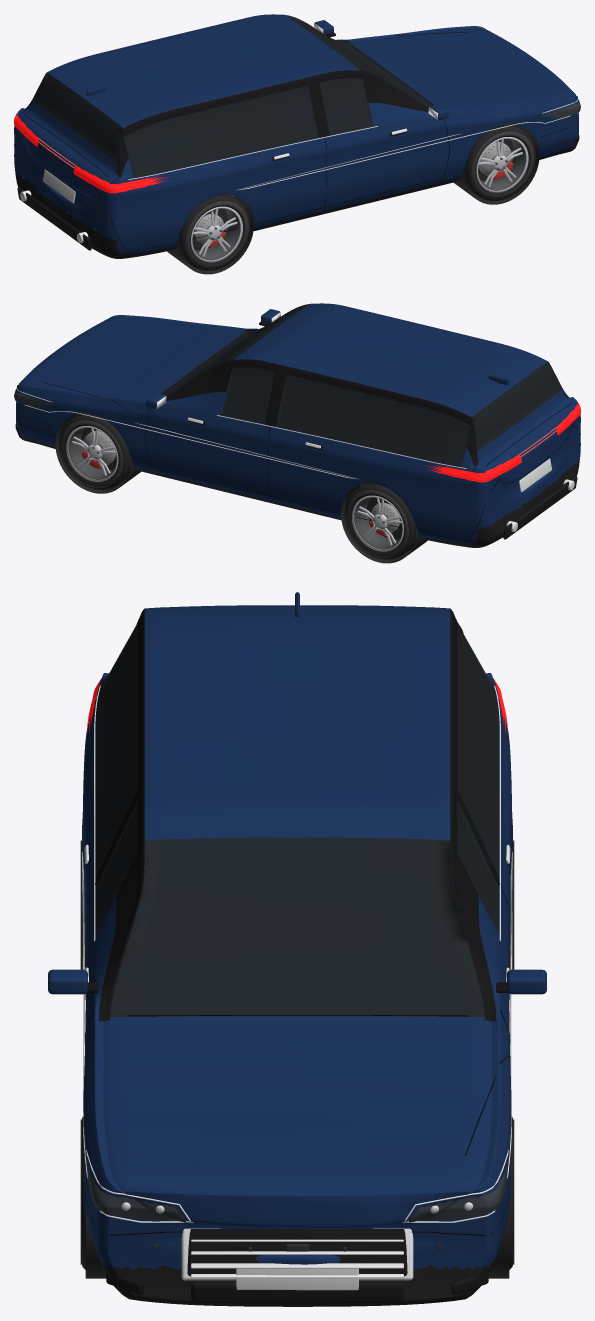
The model's file is kombi.glb.
The picture shows the model from 3 angles, top to bottom: view 1: azimuth 30°, elevation 25°; view 2: azimuth 150°, elevation 25°; view 3: azimuth 270°, elevation 25°; orthographic projection. The views are drawn at different scales.
Parts seen in each view (by area): view 1: karosserie, bt:rad_hr, bt:rad_vr, diffusor, rueckleuchte_-1, scheinwerfer_rand_-1, radhausschale.001, radhausschale.003, bt:bremse_vr, kennzeichen_hinten, bt:bremse_hr, zierleiste_-1; view 2: karosserie, bt:rad_hl, bt:rad_vl, rueckleuchte_1, diffusor, scheinwerfer_rand_1, radhausschale.002, radhausschale, bt:bremse_vl, kennzeichen_hinten, bt:bremse_hl, zierleiste_1; view 3: karosserie, grill, lufteinlass, kennzeichen_vorn, scheinwerfer_-1, scheinwerfer_1, grill_lamelle_1, grill_rahmen, scheinwerfer_rand_1, scheinwerfer_rand_-1, spiegel_1, spiegel_-1 (+1 smaller).
Boxes of the visible parts, box(x1,y1,x2,y2) form: karosserie: box(14, 14, 578, 258); bt:rad_hr: box(179, 194, 250, 270); bt:rad_vr: box(464, 124, 535, 200); diffusor: box(17, 187, 91, 250); rueckleuchte_-1: box(73, 165, 168, 193); scheinwerfer_rand_-1: box(236, 98, 578, 190); radhausschale.001: box(453, 124, 539, 204); radhausschale.003: box(167, 195, 253, 274); bt:bremse_vr: box(478, 141, 513, 179); kennzeichen_hinten: box(43, 169, 75, 203); bt:bremse_hr: box(195, 213, 225, 247); zierleiste_-1: box(128, 126, 377, 179); karosserie: box(16, 303, 580, 547); bt:rad_hl: box(344, 483, 415, 559); bt:rad_vl: box(59, 413, 130, 489); rueckleuchte_1: box(426, 454, 521, 482); diffusor: box(503, 476, 577, 539); scheinwerfer_rand_1: box(16, 387, 358, 479); radhausschale.002: box(341, 484, 427, 563); radhausschale: box(55, 414, 141, 493); bt:bremse_vl: box(81, 430, 116, 468); kennzeichen_hinten: box(519, 458, 551, 492); bt:bremse_hl: box(369, 502, 399, 536); zierleiste_1: box(217, 415, 466, 468); karosserie: box(82, 605, 512, 1306); grill: box(187, 1229, 407, 1276); lufteinlass: box(191, 1281, 403, 1303); kennzeichen_vorn: box(236, 1268, 358, 1290); scheinwerfer_-1: box(85, 1153, 187, 1222); scheinwerfer_1: box(406, 1153, 509, 1222); grill_lamelle_1: box(191, 1263, 403, 1268); grill_rahmen: box(181, 1228, 413, 1280); scheinwerfer_rand_1: box(402, 852, 512, 1222); scheinwerfer_rand_-1: box(82, 852, 193, 1222); spiegel_1: box(507, 969, 546, 994); spiegel_-1: box(48, 969, 87, 994).
Size of the model in its own units: 4.81 by 1.52 by 2.11.
